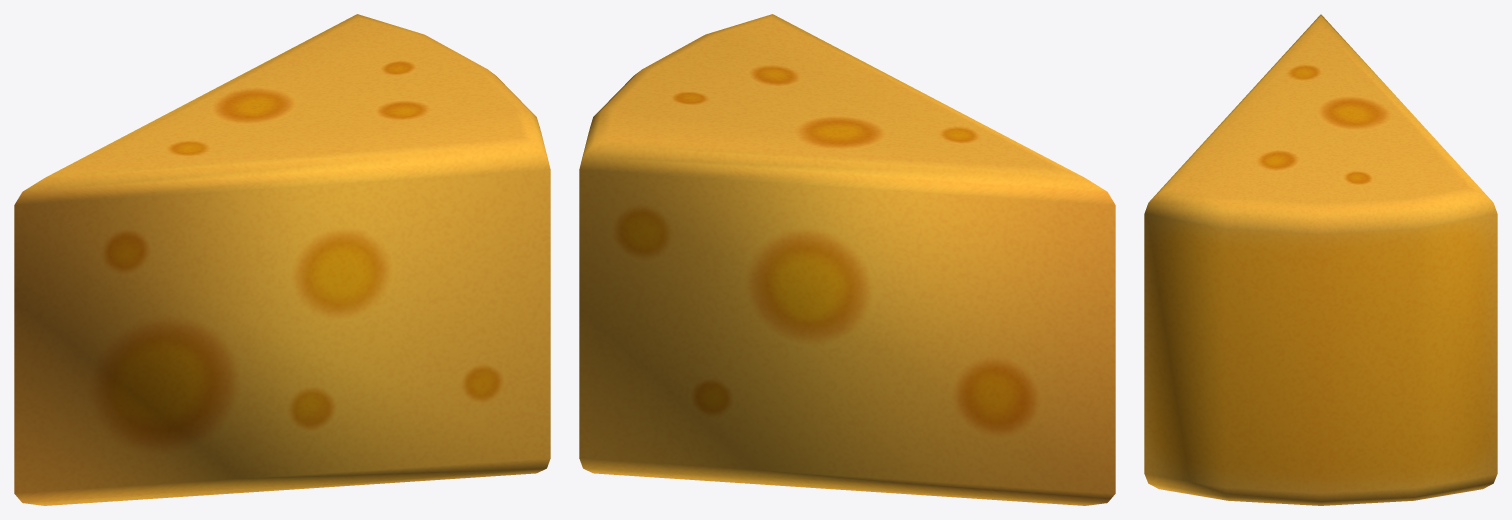
The model's file is Cheese.fbx.
The picture shows the model from 3 angles, left to right: view 1: azimuth 30°, elevation 25°; view 2: azimuth 150°, elevation 25°; view 3: azimuth 270°, elevation 25°; orthographic projection. The views are drawn at different scales.
Parts seen in each view (by area): view 1: Cube; view 2: Cube; view 3: Cube.
Boxes of the visible parts, bbox=[...] form: Cube: bbox=[14, 14, 550, 505]; Cube: bbox=[579, 14, 1115, 505]; Cube: bbox=[1144, 14, 1497, 505].
Size of the model in its own units: 286 by 189 by 200.
